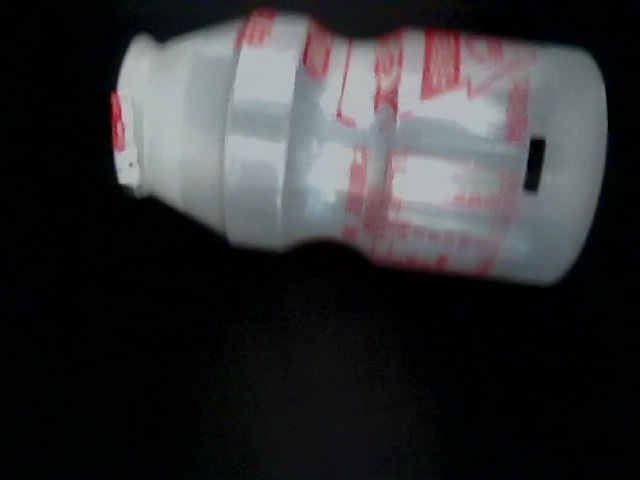CYLJ: (1, 12, 226, 301)
